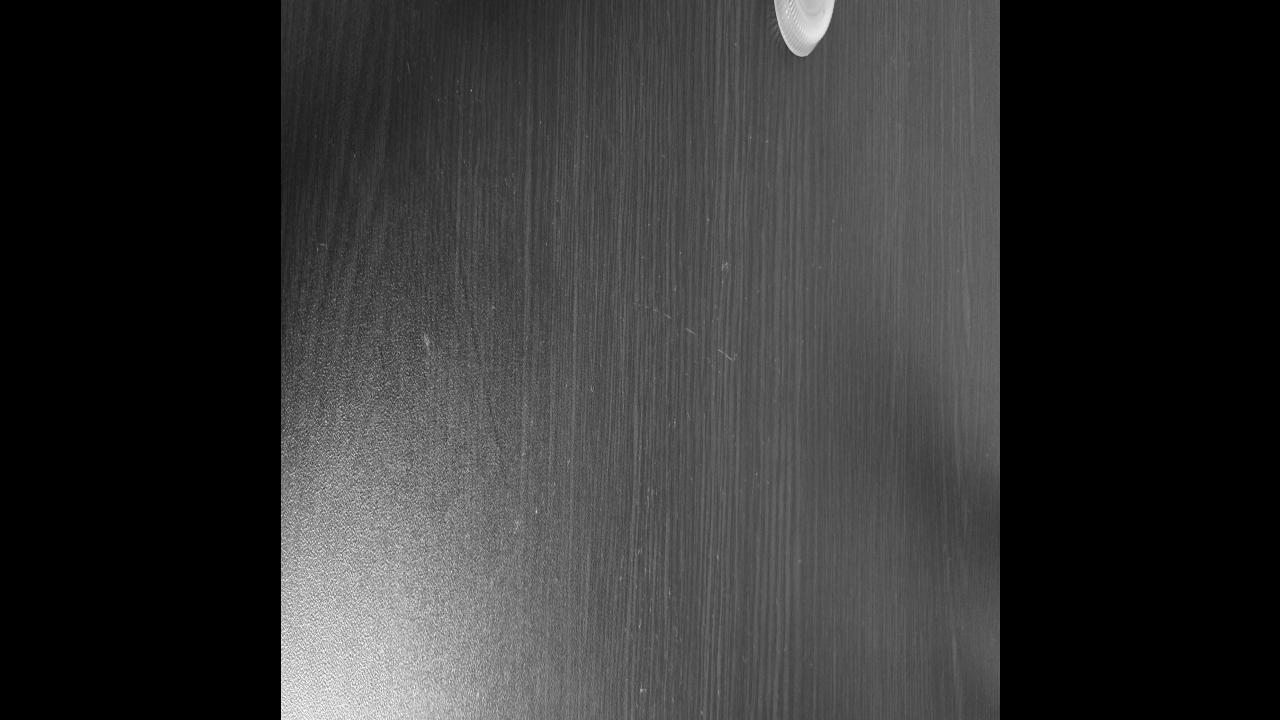bottle_cap: (769, 0, 837, 62)
